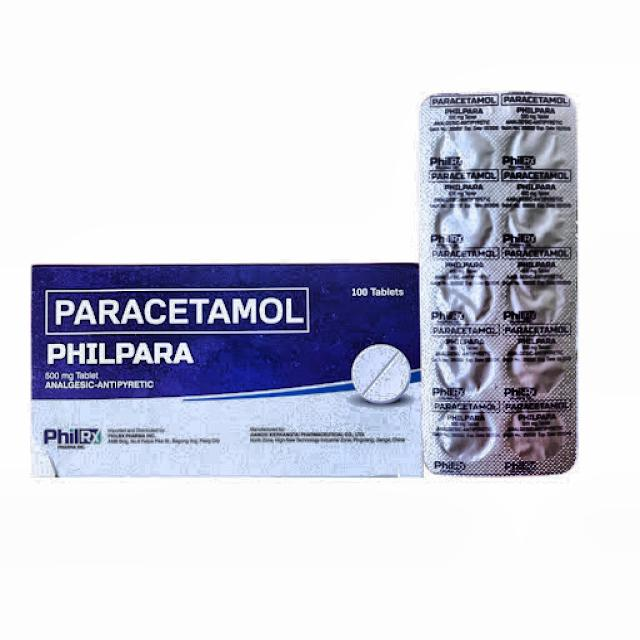Paracetamol: (39, 276, 328, 390)
